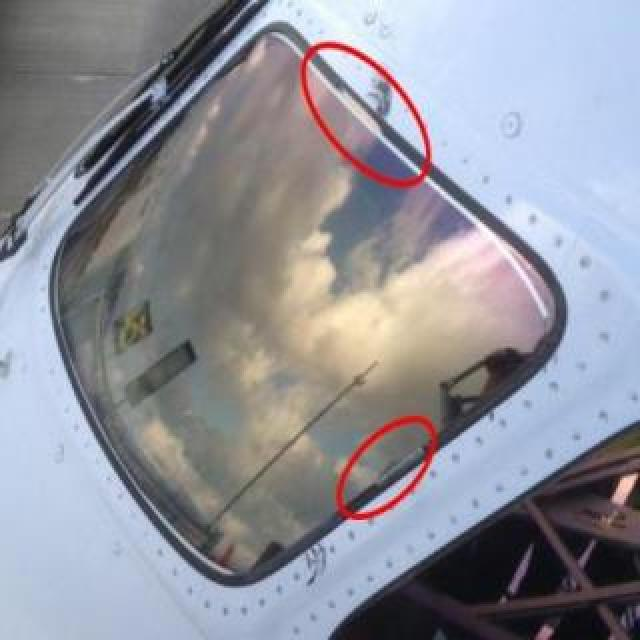crack: (368, 80, 392, 118)
